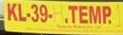character: (88, 5, 101, 24), (6, 1, 17, 21), (67, 5, 77, 23), (78, 5, 88, 23), (102, 5, 111, 23), (30, 3, 38, 22), (39, 3, 47, 22), (18, 3, 26, 20)
